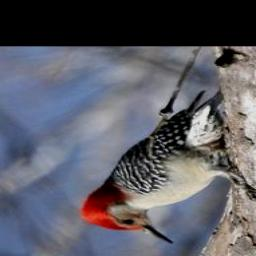Woodpecker: (72, 84, 256, 248)
